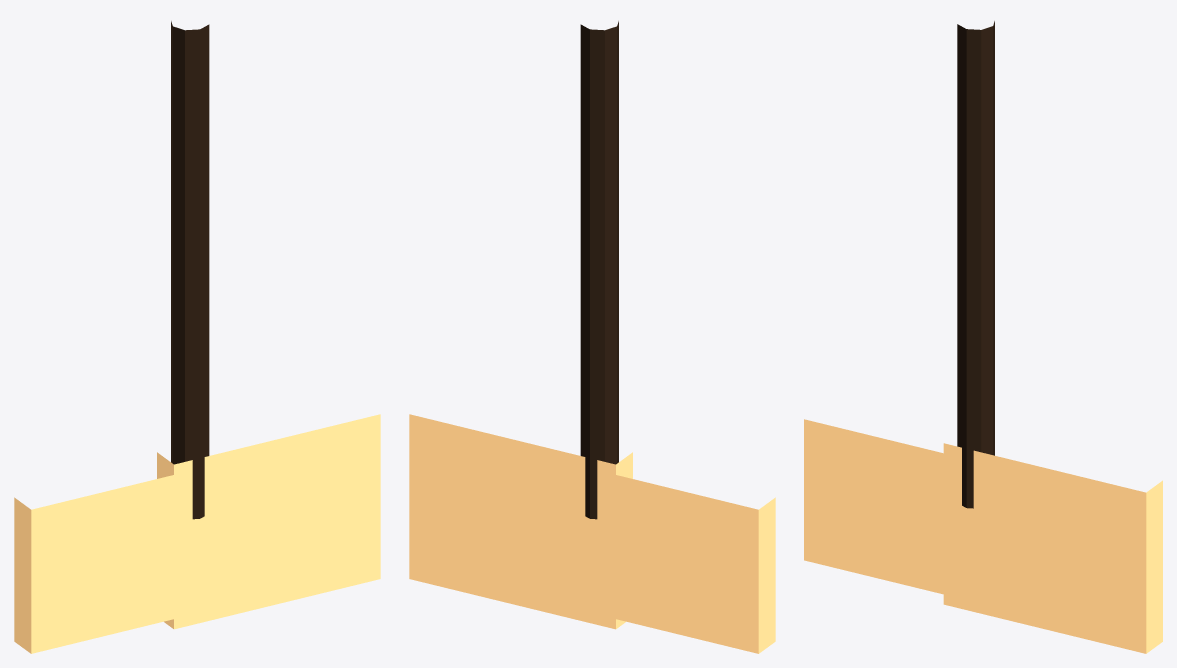
Rendered from beastmaster.glb.
3 views of the same model, side by side, from view 1: azimuth 30°, elevation 25°; view 2: azimuth 150°, elevation 25°; view 3: azimuth 330°, elevation 25° (orthographic). The views are drawn at different scales.
Visible parts, largest first — view 1: beastmaster-blade, beastmaster-back-blade, beastmaster-haft; view 2: beastmaster-blade, beastmaster-back-blade, beastmaster-haft; view 3: beastmaster-blade, beastmaster-back-blade, beastmaster-haft.
Part boxes in pixels (left/top/right/bottom): beastmaster-blade: left=157, top=414, right=380, bottom=629; beastmaster-back-blade: left=14, top=466, right=208, bottom=653; beastmaster-haft: left=171, top=21, right=209, bottom=519; beastmaster-blade: left=409, top=414, right=632, bottom=629; beastmaster-back-blade: left=581, top=466, right=775, bottom=653; beastmaster-haft: left=580, top=21, right=618, bottom=519; beastmaster-blade: left=943, top=443, right=1162, bottom=653; beastmaster-back-blade: left=804, top=419, right=977, bottom=602; beastmaster-haft: left=957, top=21, right=994, bottom=508.
Bounding box in the file's own units: 0.71 × 1.16 × 0.07.
